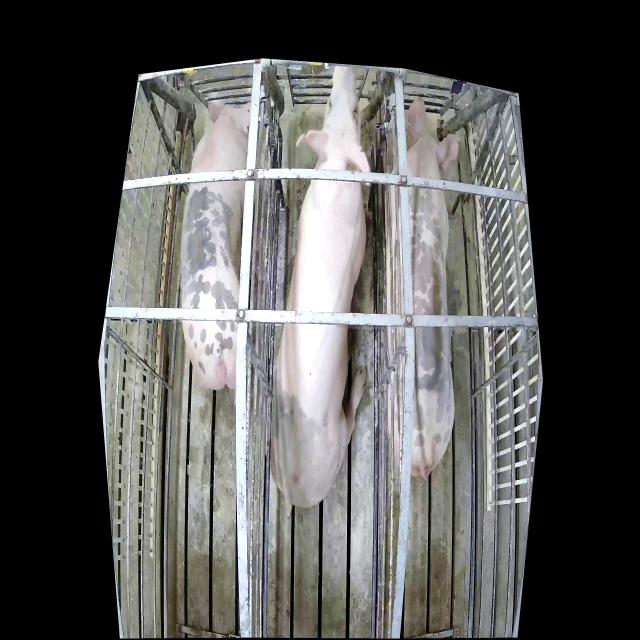pig: (270, 69, 374, 511), (386, 98, 461, 477), (180, 101, 250, 397)
